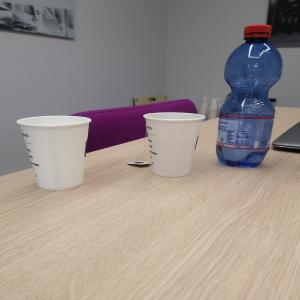Cup: (16, 116, 93, 193), (142, 113, 207, 179)
Plastic-bottle: (217, 25, 285, 169)
